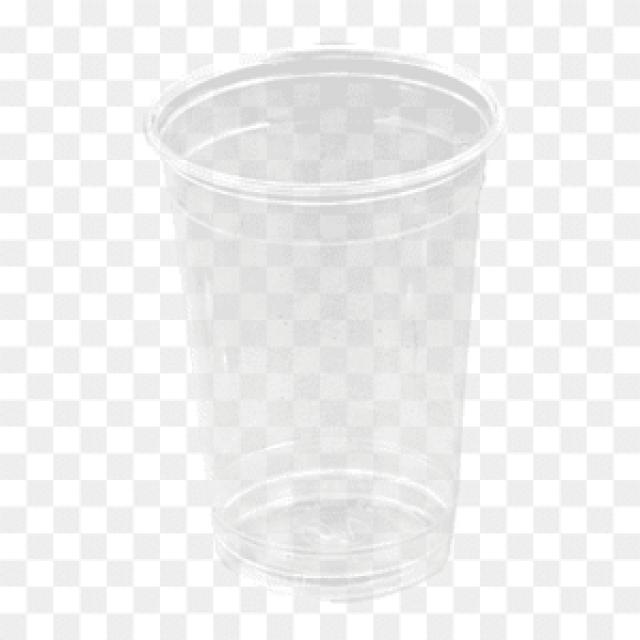plastic cup: (140, 43, 506, 610)
